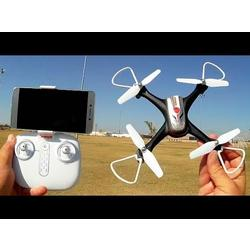drone: (109, 61, 247, 182)
